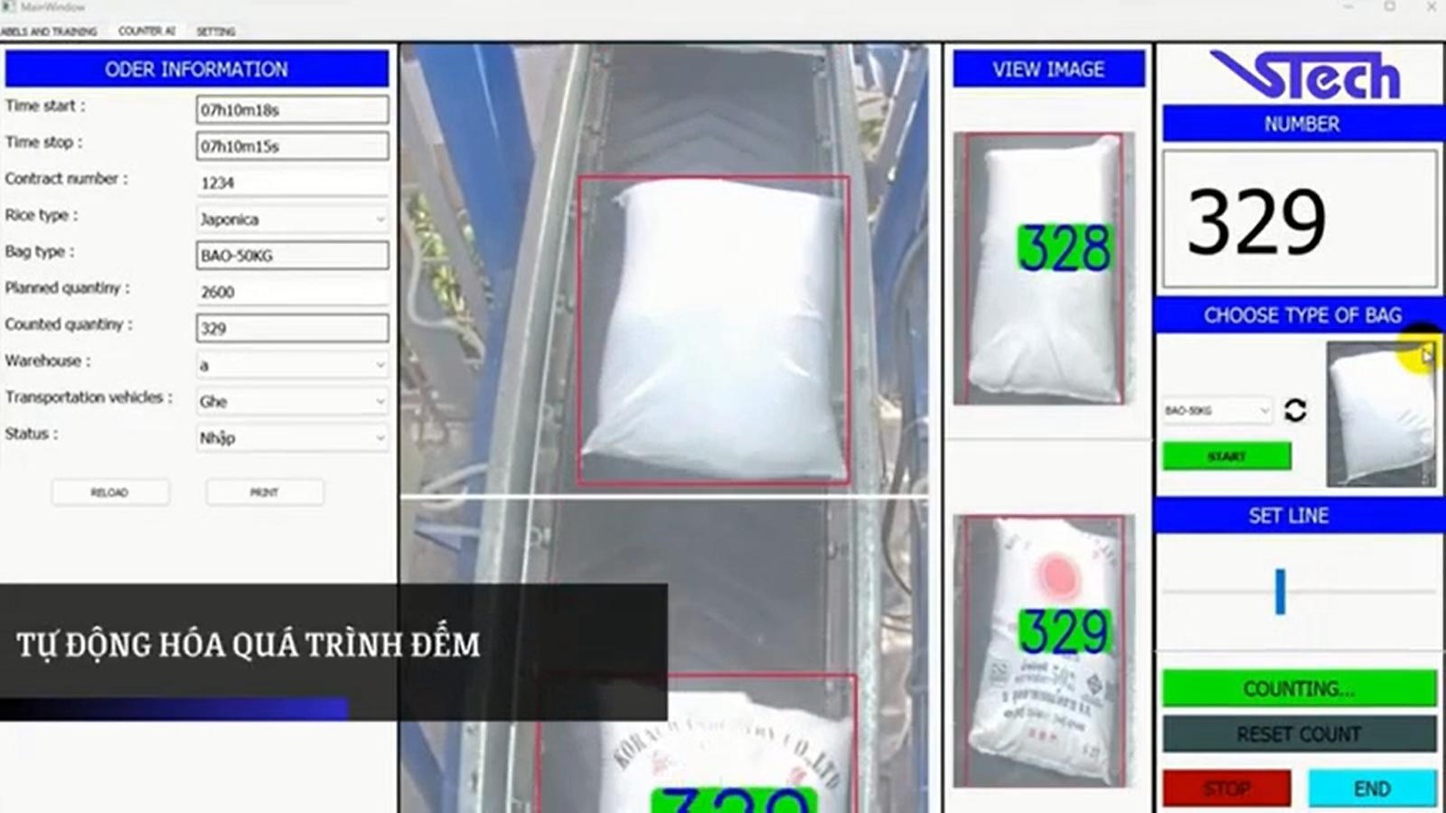rice-bag: (583, 180, 843, 479), (967, 136, 1122, 402), (969, 518, 1120, 780)
